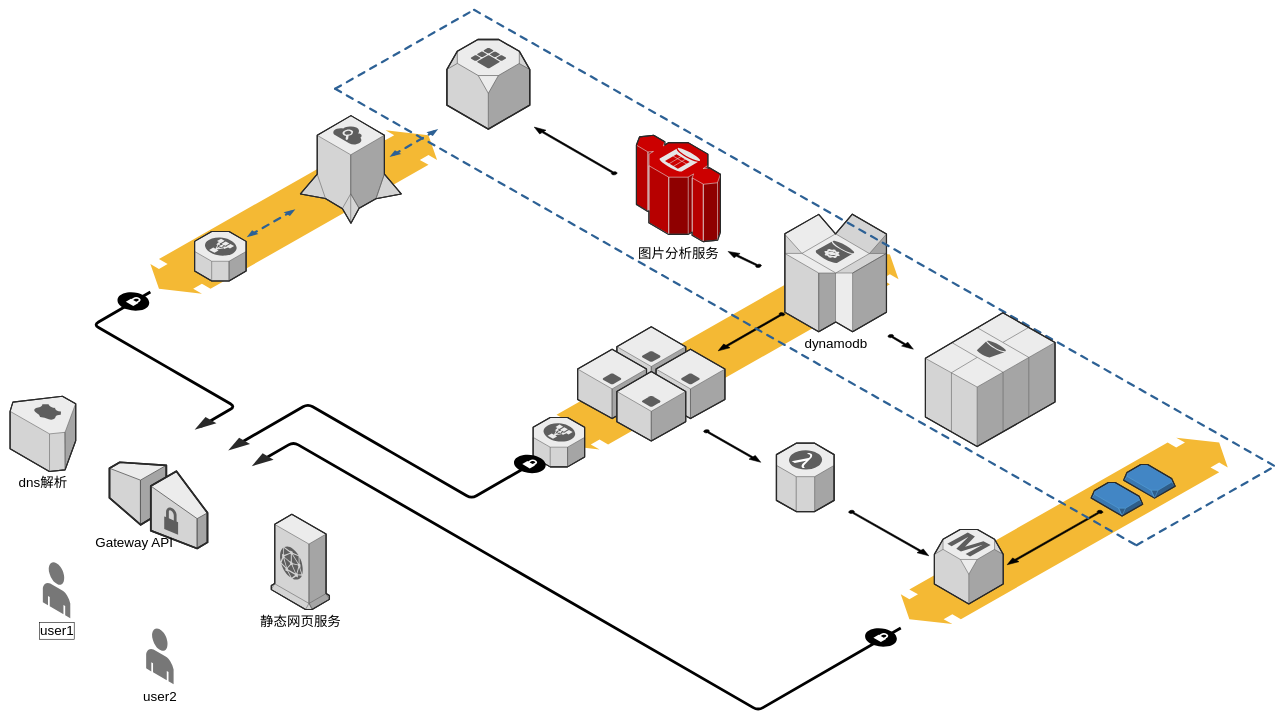
This 1286x722 diagram has some shape labels left out. Here are the shapes that lost their labels. From the top down, the centre of each, then its label:
[488,84]: elastic search
[350,169]: 搜索引擎服务
[990,379]: 图片存储
[968,566]: 直播流媒体服务
